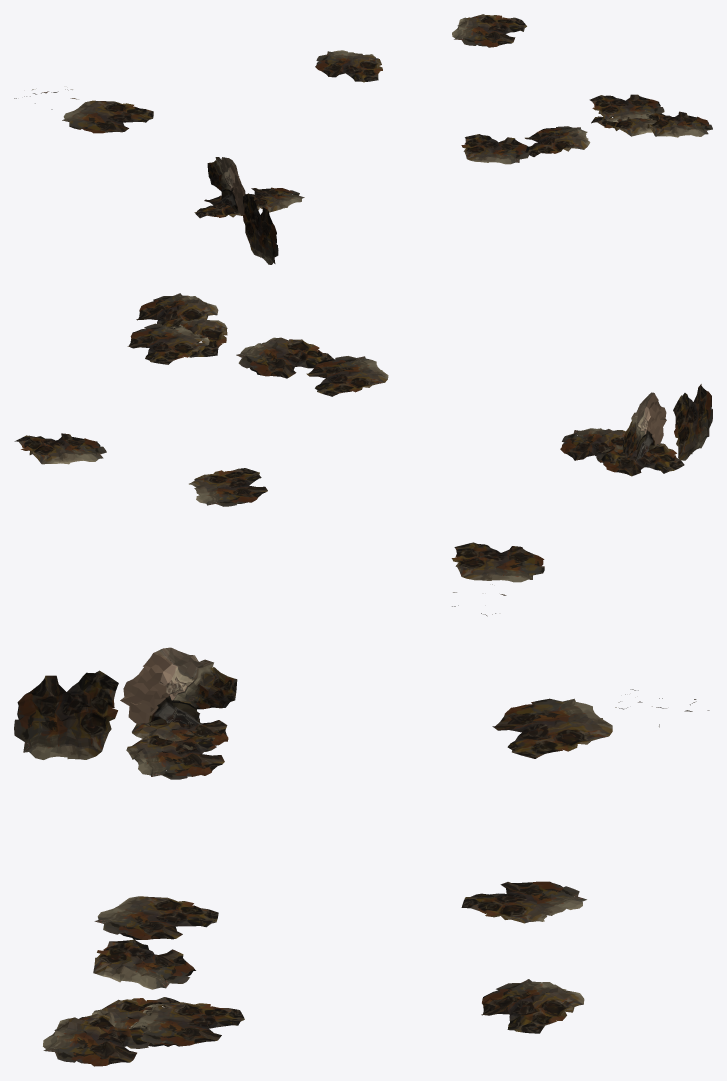
File: SM_grubages.fbx
3 renders of one model, top to bottom at view 1: azimuth 30°, elevation 25°; view 2: azimuth 150°, elevation 25°; view 3: azimuth 270°, elevation 25°, orthographic. The views are drawn at different scales.
Visible parts, largest first — view 1: SM_grbgeKitch14.001; view 2: SM_grbgeKitch14.001; view 3: SM_grbgeKitch14.001.
Part boxes in pixels (box(x1,y1,x2,y2)): SM_grbgeKitch14.001: box(14, 14, 712, 264); SM_grbgeKitch14.001: box(14, 293, 712, 616); SM_grbgeKitch14.001: box(14, 647, 709, 1066).
Size of the model in its own units: 750 by 108 by 593.
